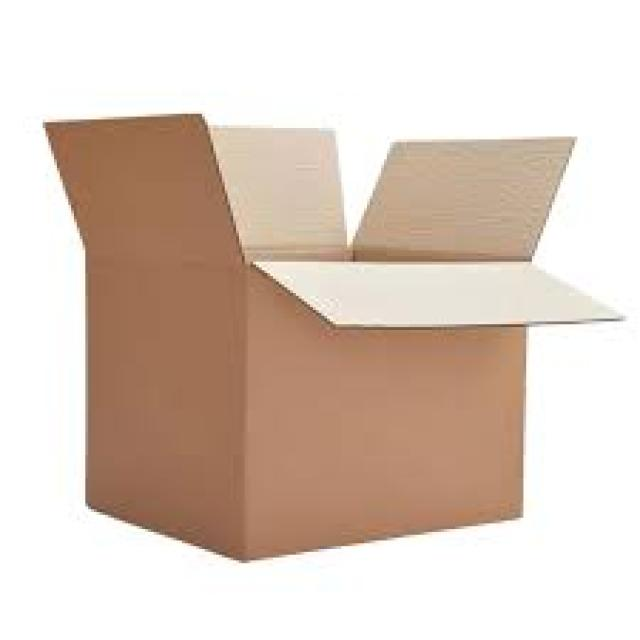box: (43, 113, 629, 565)
opened: (43, 114, 631, 330)
